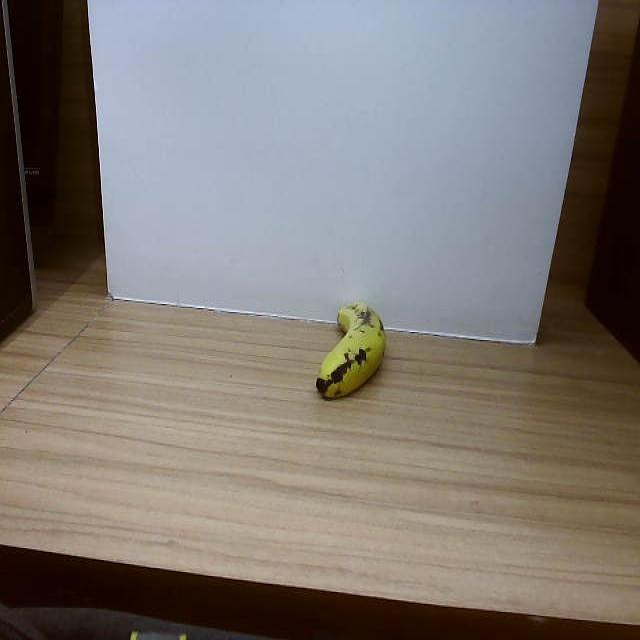Overripe: (312, 286, 397, 420)
